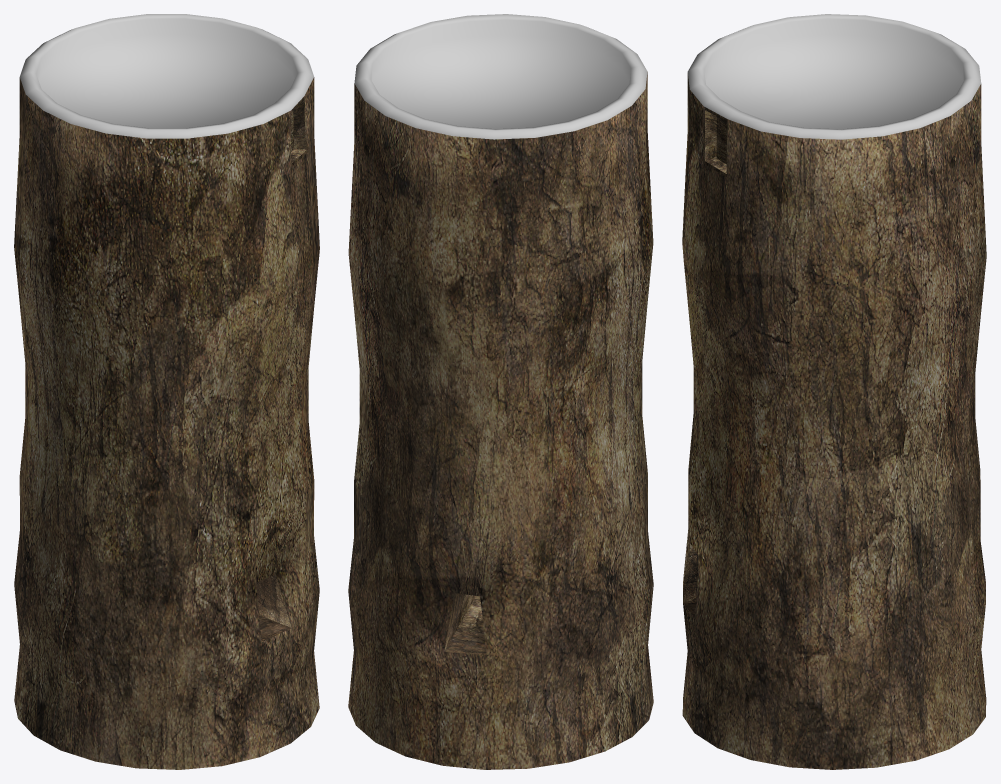
The model's file is tower01.FBX.
The picture shows the model from 3 angles, left to right: view 1: azimuth 30°, elevation 25°; view 2: azimuth 150°, elevation 25°; view 3: azimuth 270°, elevation 25°; orthographic projection.
Parts seen in each view (by area): view 1: base; view 2: base; view 3: base.
Boxes of the visible parts, x1=… form: base: x1=14, y1=14, x2=319, y2=769; base: x1=348, y1=14, x2=653, y2=769; base: x1=682, y1=14, x2=986, y2=769.
Bounding box in the file's own units: 102 × 101 × 233.
